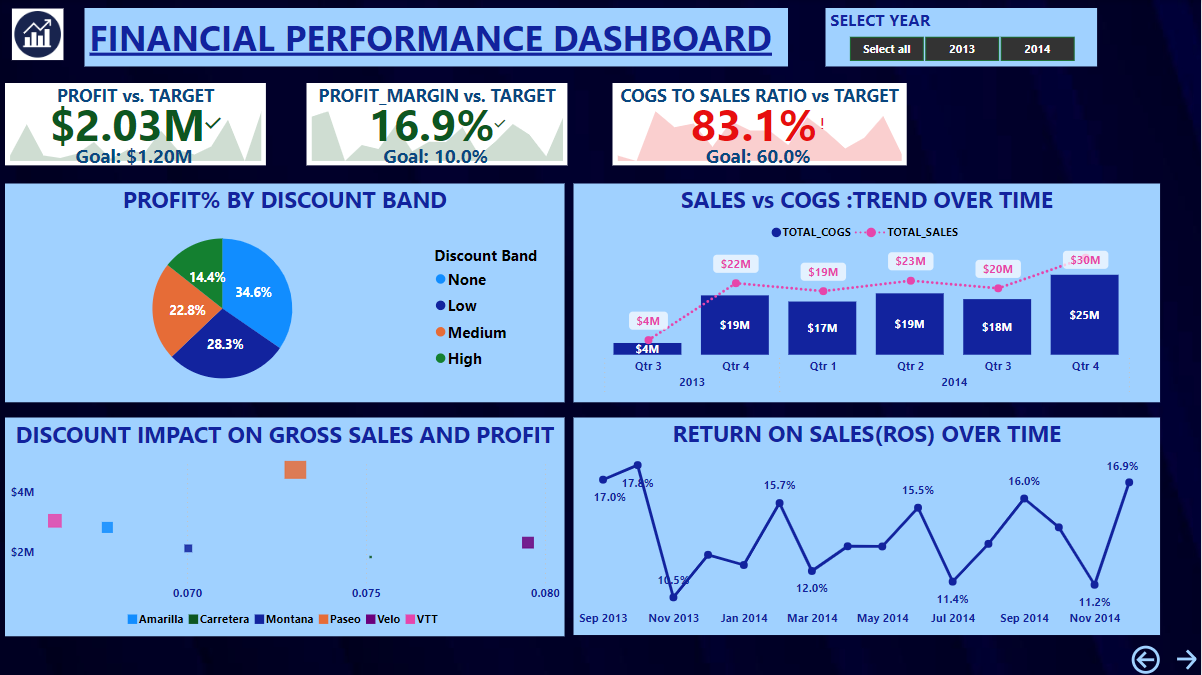

What the dashboard file says about the page in this screenshot:
{"tool":"powerbi","page":{"name":"P2","canvas":[1280,720],"ordinal":1},"visuals":[{"type":"image","box":[12.2,4.1,68.9,64.8],"z":0},{"type":"scatterChart","title":"DISCOUNT IMPACT ON GROSS SALES AND PROFIT","fields":{"Y":["financials.TOTAL_PROFIT"],"X":["financials.DISCOUNT%"],"Series":["financials.Product"],"Size":["financials.TOTAL_GROSS_SALES"]},"box":[12.7,443.8,593.3,232.2],"z":1000},{"type":"lineClusteredColumnComboChart","title":"SALES vs COGS :TREND OVER TIME","fields":{"Category":["financials.Date.Variation.Date Hierarchy.Year","financials.Date.Variation.Date Hierarchy.Quarter"],"Y":["financials.TOTAL_COGS"],"Y2":["financials.TOTAL_SALES"]},"box":[615.6,195.6,621.9,232.2],"z":2000},{"type":"lineChart","title":"RETURN ON SALES(ROS) OVER TIME","fields":{"Y":["financials.ROS"],"Category":["financials.Date.Variation.Date Hierarchy.Year","financials.Date.Variation.Date Hierarchy.Quarter","financials.Date.Variation.Date Hierarchy.Month","financials.Date.Variation.Date Hierarchy.Day"]},"box":[615.6,443.8,621.9,230.6],"z":3000},{"type":"textbox","box":[97,9.5,746,62],"z":4000},{"type":"kpi","title":"PROFIT vs. TARGET","fields":{"Indicator":["financials.TOTAL_PROFIT"],"Goal":["financials.TARGET_PROFIT"],"TrendLine":["financials.Date"]},"box":[12.7,89.1,276.8,87.5],"z":5000},{"type":"kpi","title":"PROFIT_MARGIN vs. TARGET","fields":{"TrendLine":["financials.Date"],"Indicator":["financials.PROFIT_MARGIN"],"Goal":["financials.TARGET PROFIT MARGIN"]},"box":[332.4,89.1,276.8,87.5],"z":6000},{"type":"kpi","title":"COGS TO SALES RATIO vs TARGET","fields":{"TrendLine":["financials.Date"],"Indicator":["financials.COGS_SALES_RATIO"],"Goal":["financials.TARGET_SALES_COGS_RATIO"]},"box":[656.9,89.1,311.8,87.5],"z":7000},{"type":"actionButton","box":[1202.5,680.2,42.9,39.8],"z":8000},{"type":"pieChart","title":"PROFIT% BY DISCOUNT BAND","fields":{"Category":["financials.Discount Band"],"Y":["financials.PROFIT_MARGIN"]},"box":[12.7,195.6,593.3,232.2],"z":9000},{"type":"slicer","title":"SELECT YEAR","fields":{"Values":["financials.Year"]},"box":[882.8,9.5,287.9,62],"z":10000},{"type":"actionButton","box":[1250.2,680.8,30.2,39.8],"z":11000}]}

Visuals, with their boxes in screenshot pixels (x1, y1, x2, y2), scaled from the page's 1280x720 canvas onto the 1202x675 screenshot:
image: bbox=(11, 4, 76, 65)
"DISCOUNT IMPACT ON GROSS SALES AND PROFIT" scatterChart: bbox=(12, 416, 569, 634)
"SALES vs COGS :TREND OVER TIME" lineClusteredColumnComboChart: bbox=(578, 183, 1162, 401)
"RETURN ON SALES(ROS) OVER TIME" lineChart: bbox=(578, 416, 1162, 632)
textbox: bbox=(91, 9, 792, 67)
"PROFIT vs. TARGET" kpi: bbox=(12, 84, 272, 166)
"PROFIT_MARGIN vs. TARGET" kpi: bbox=(312, 84, 572, 166)
"COGS TO SALES RATIO vs TARGET" kpi: bbox=(617, 84, 910, 166)
actionButton: bbox=(1129, 638, 1170, 674)
"PROFIT% BY DISCOUNT BAND" pieChart: bbox=(12, 183, 569, 401)
"SELECT YEAR" slicer: bbox=(829, 9, 1099, 67)
actionButton: bbox=(1174, 638, 1201, 674)
